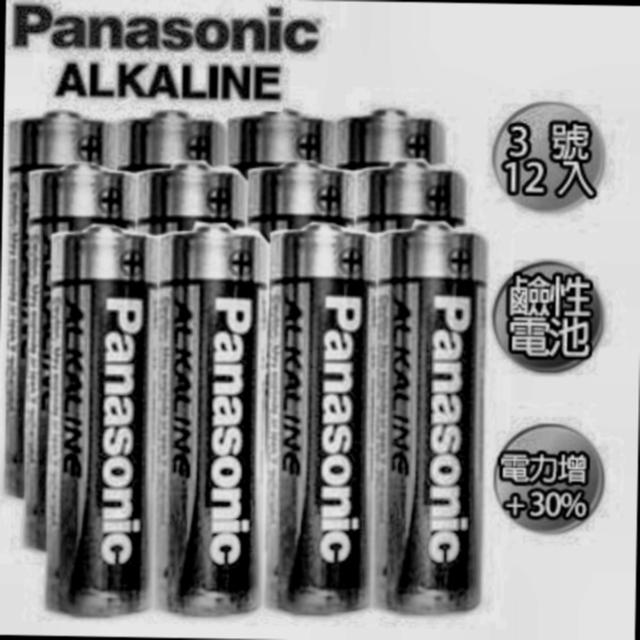drycell: (148, 220, 273, 620), (42, 218, 160, 618)
